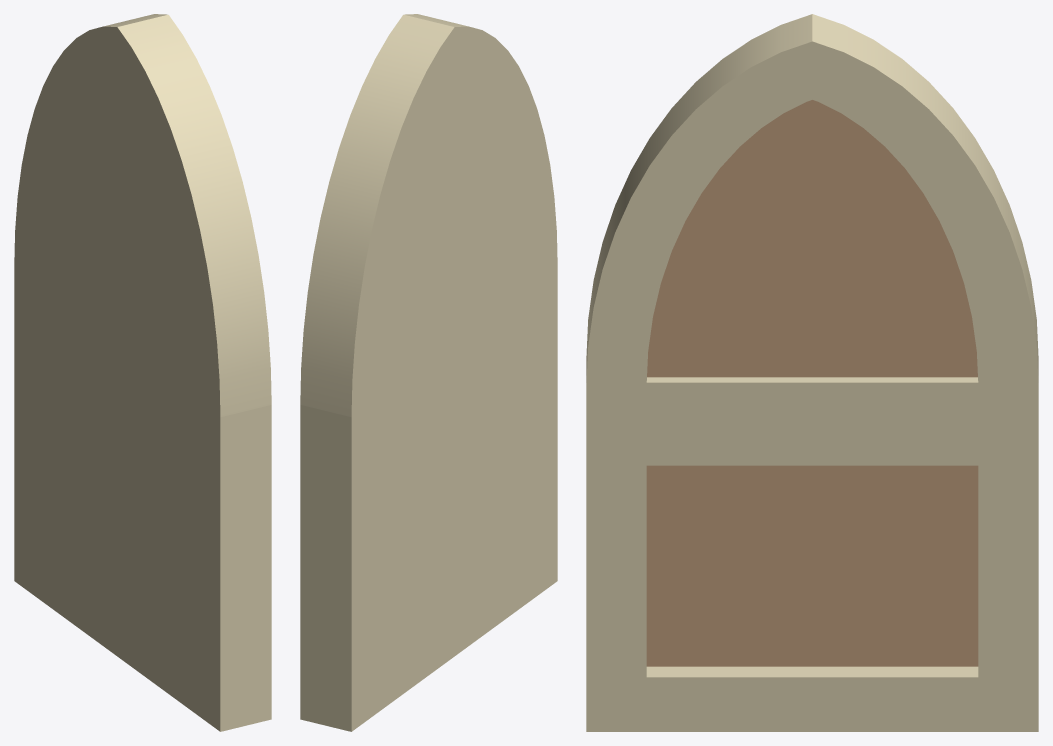
File: door.obj
3 views of the same model, side by side, from view 1: azimuth 30°, elevation 25°; view 2: azimuth 150°, elevation 25°; view 3: azimuth 270°, elevation 25° (orthographic). The views are drawn at different scales.
Visible parts, largest first — view 1: door; view 2: door; view 3: door.
Boxes of the visible parts, x1,y1,x2,y2 form: door: [14, 14, 271, 731]; door: [300, 14, 557, 731]; door: [586, 14, 1038, 731].
Size of the model in its own units: 0.516 by 6.05 by 3.59.
